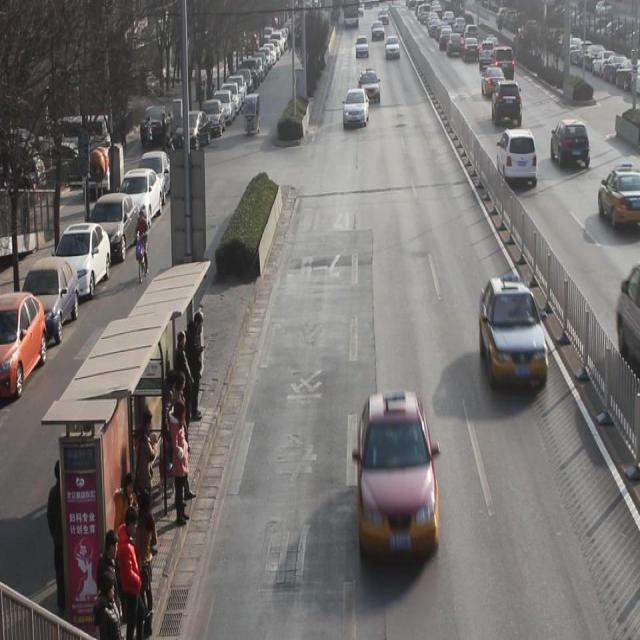car: (359, 388, 438, 555), (479, 274, 549, 390), (598, 162, 640, 228), (497, 129, 537, 189), (550, 117, 591, 172), (492, 81, 523, 129), (343, 88, 369, 126), (359, 68, 381, 105), (493, 46, 515, 81), (482, 64, 506, 96), (463, 36, 480, 62), (386, 35, 400, 62), (480, 40, 495, 64), (372, 20, 386, 44), (448, 33, 462, 56), (522, 24, 537, 45), (356, 34, 369, 58), (441, 27, 452, 50), (484, 35, 497, 53)
